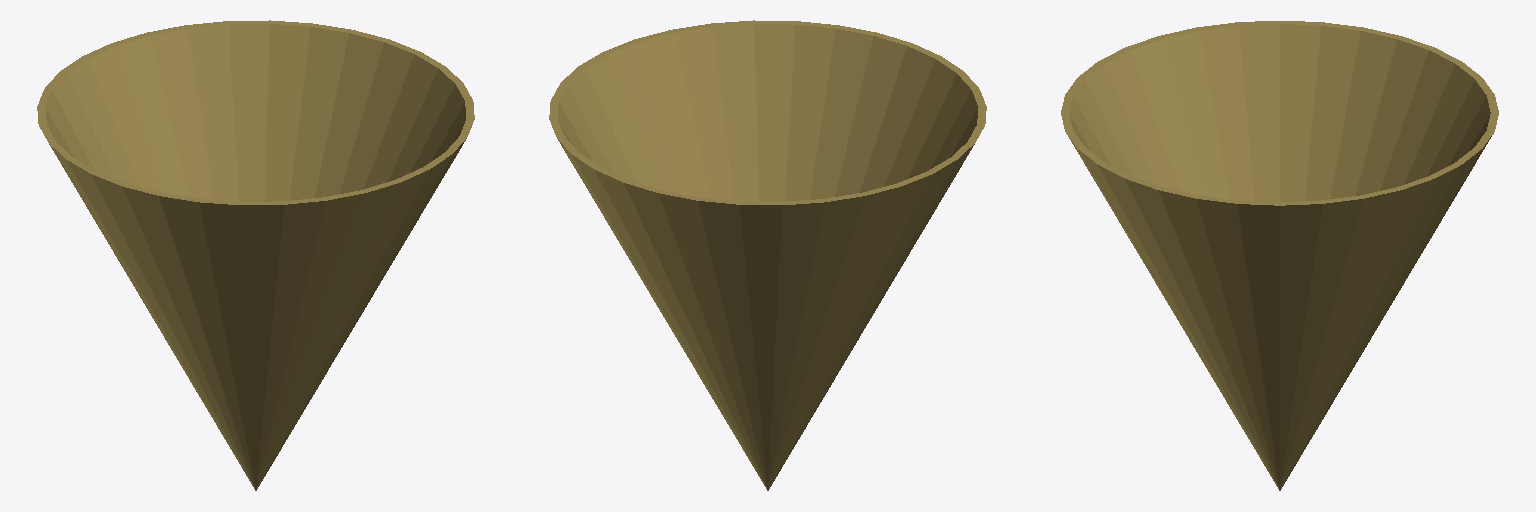
URDF robot description (object):
<?xml version="1.0"?>
<robot name="object">
  <link name="base_link"> <!-- required name-->
    <inertial>
      <origin xyz="0 0 0" /> 
      <mass value="1.0" />
      <inertia  ixx="1.0" ixy="0.0"  ixz="0.0"  iyy="1.0"  iyz="0.0"  izz="1.0" />
    </inertial>
    <visual>
      <origin xyz="0 0 0"/>
      <geometry>
        <!-- cone1 is slightly larger than cone, cone is defined for mu = 0.5 -->
        <mesh filename="package://animals_description/meshes/cone1.dae"/>
      </geometry>
    </visual>
  </link>
</robot>

--- What the picture shows (computed from the rendered views, not written in the file) ---
The picture shows the robot from 3 angles, left to right: view 1: azimuth 30°, elevation 25°; view 2: azimuth 150°, elevation 25°; view 3: azimuth 270°, elevation 25°; orthographic projection.
Robot: object — 1 links, 0 joints (none); root link base_link; default pose: every joint at zero.
Links seen in each view (by area): view 1: base_link; view 2: base_link; view 3: base_link.
Boxes of the visible links, x1,y1,x2,y2 form: base_link: (37,20,474,490); base_link: (549,20,986,490); base_link: (1061,21,1498,490).
Bounding box of the posed robot: 0.4105 × 0.4105 × 0.391 m (x, y, z).
Meshes: 1 distinct files referenced, 1 mesh visuals loaded (1 Collada DAE).